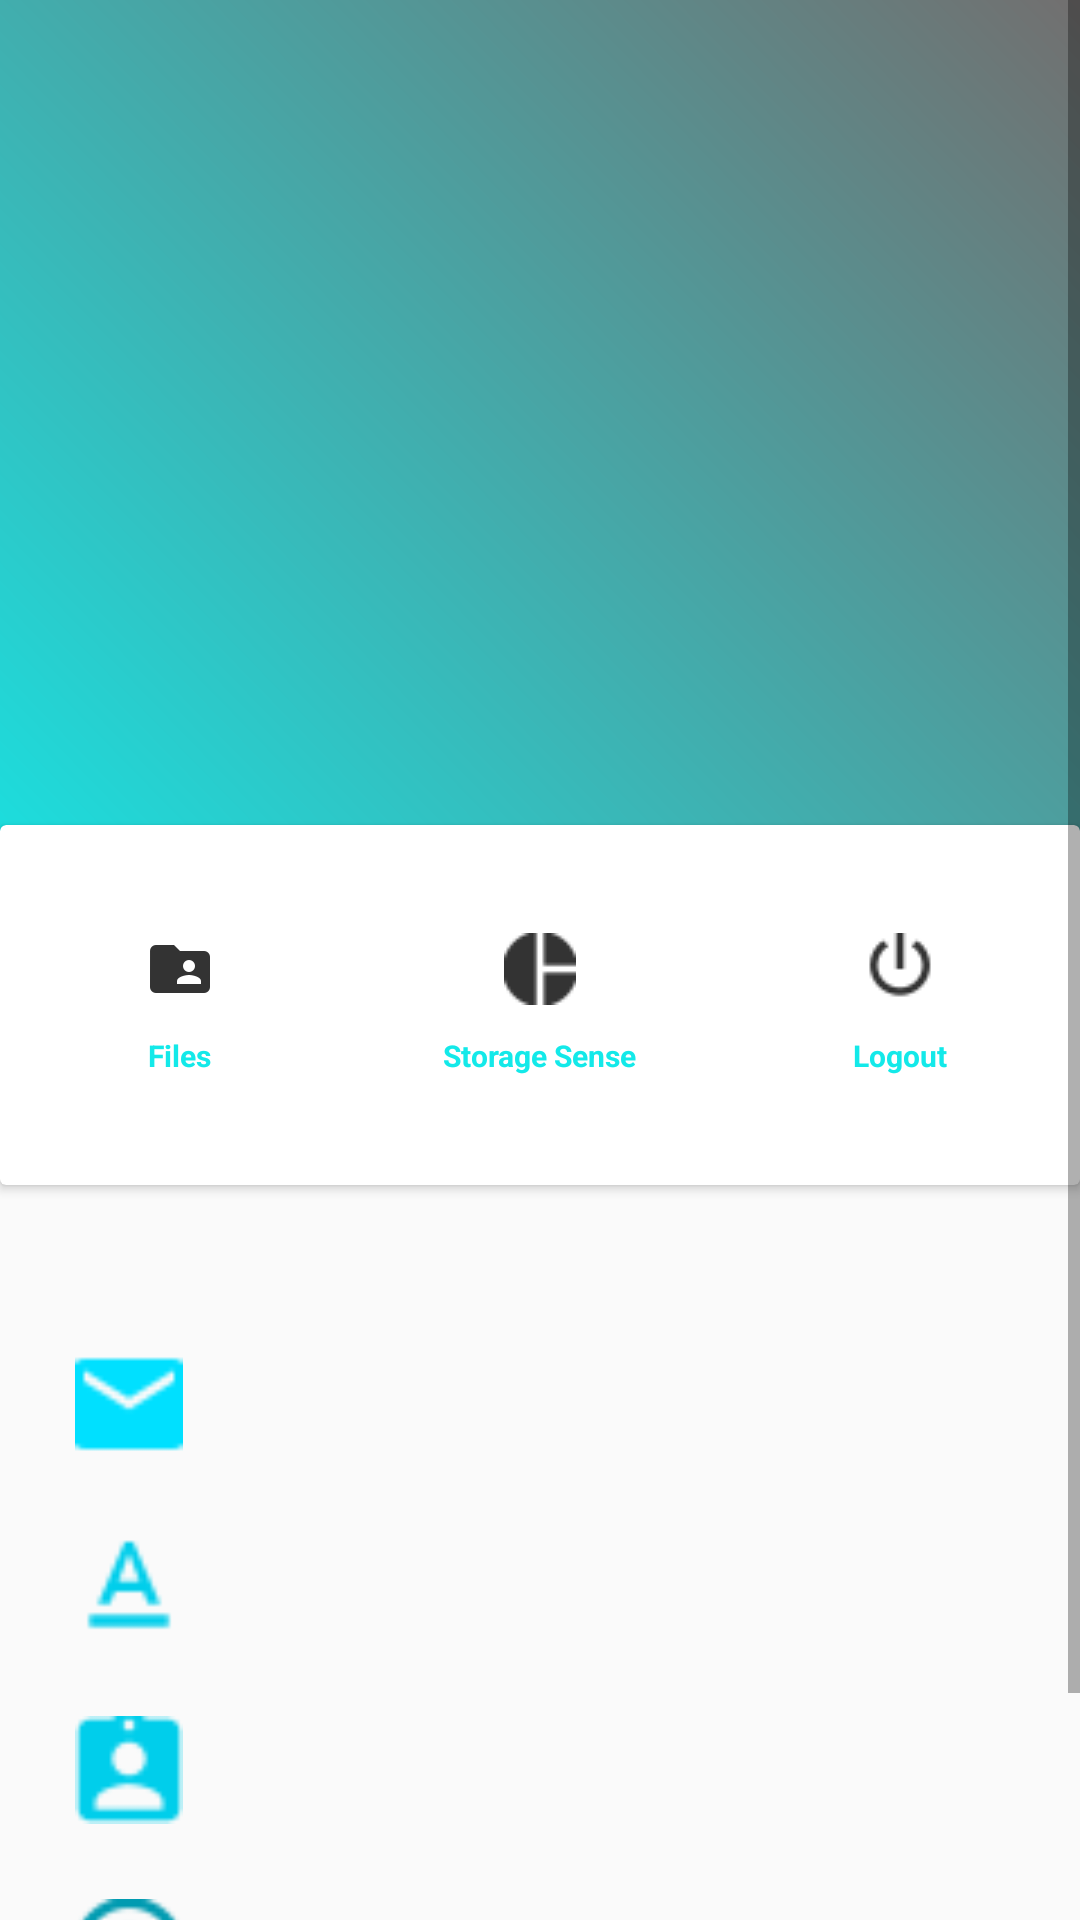

Screen size 1080px×1920px. Icon name, then its center in pixels as point (x, y):
user email id: point (129, 1404)
user full name: point (129, 1584)
user who: point (129, 1770)
